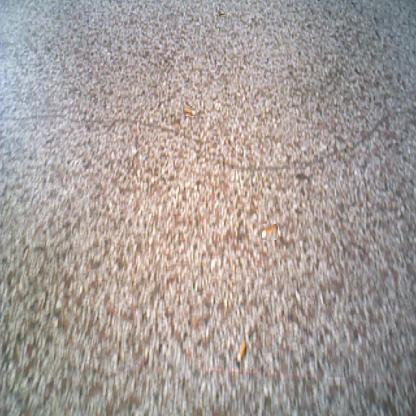dirty: (234, 340, 248, 366), (260, 224, 278, 240), (183, 106, 197, 116), (218, 9, 225, 17)
